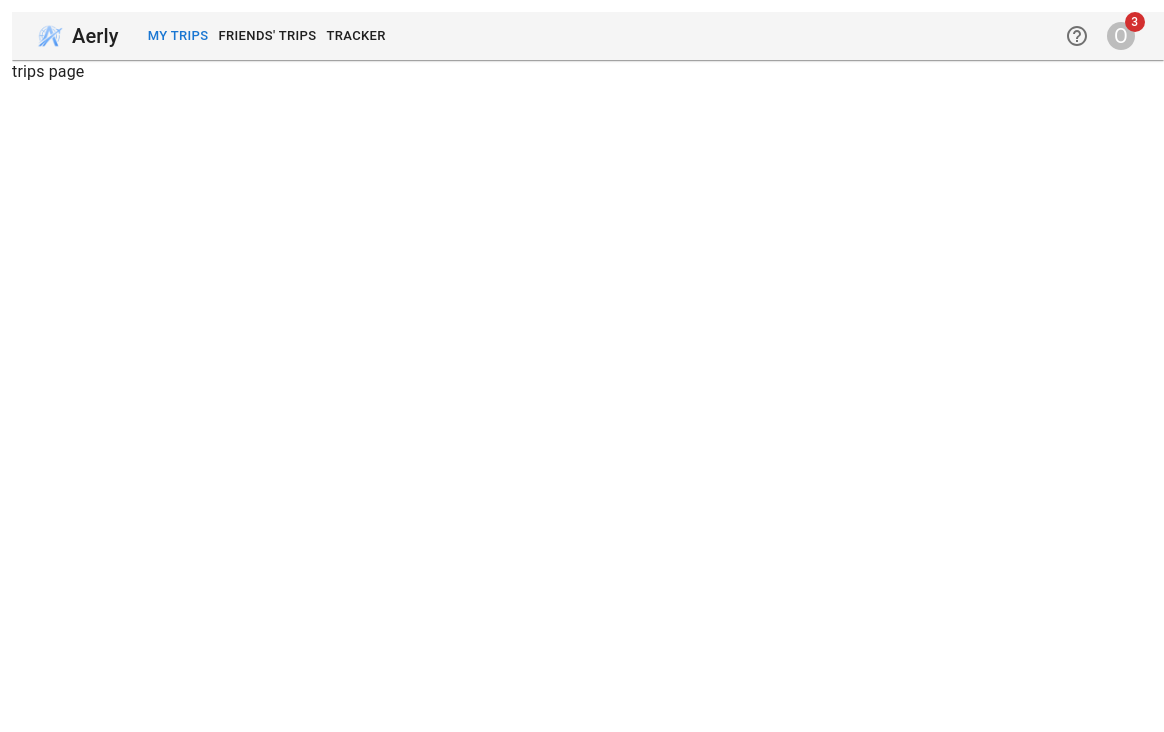
Test: Layout › shows a pending friend-request chip when there are some
Click the button named "account menu".
click(1121, 36)  # box [1102,17,1140,55]
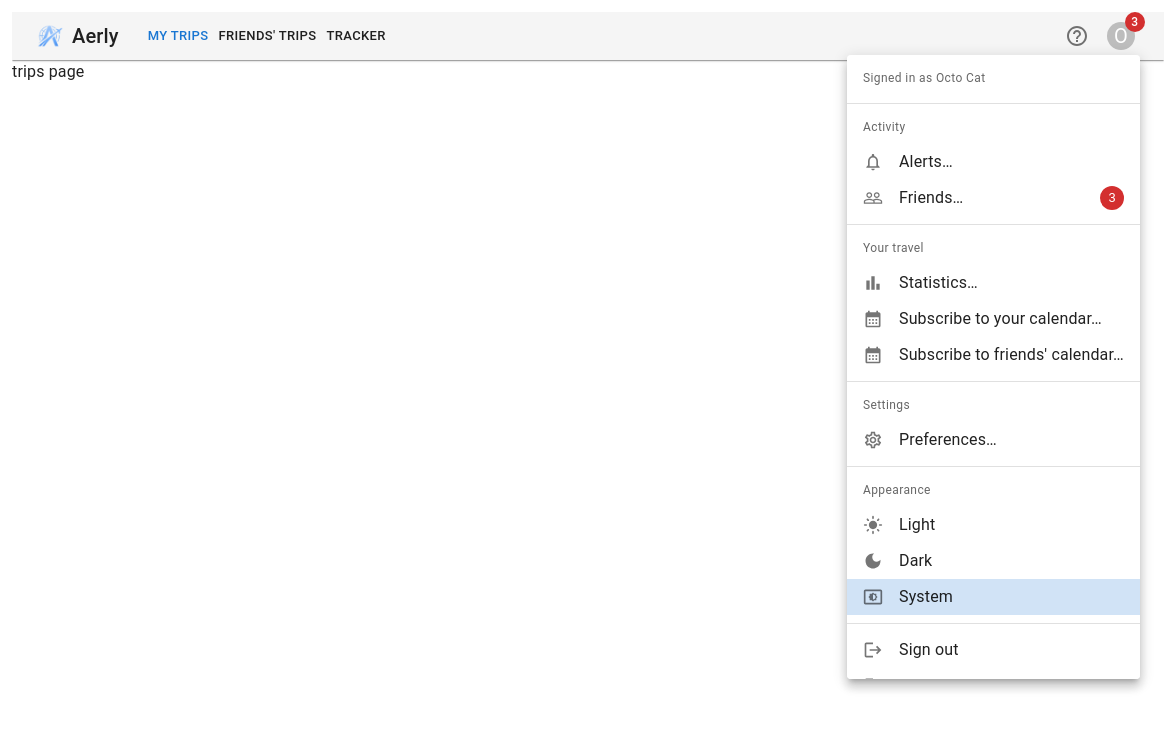
Result: the text "3" is shown at [1108,190,1116,205]
